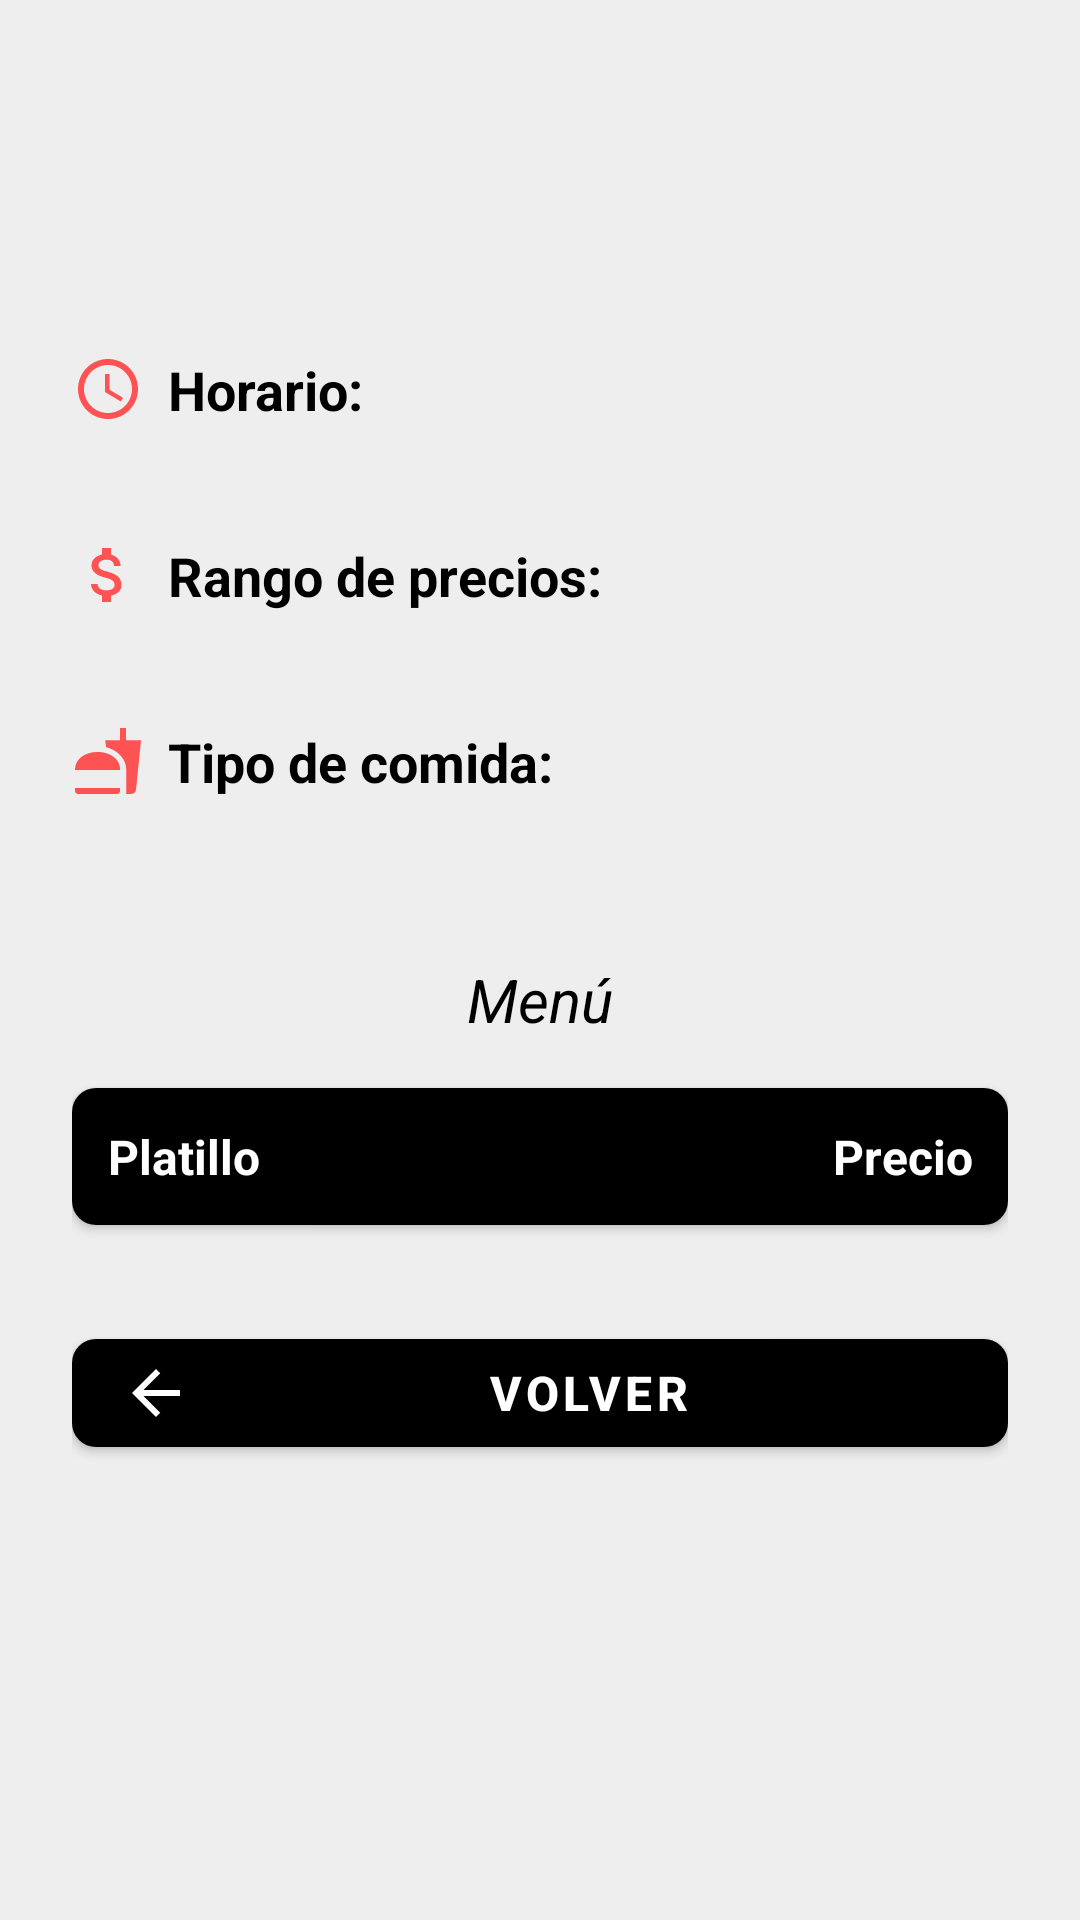

Icons on this 1080x1920 Android screen, each with the point to tap as [x,y]:
food: [108,761]
price: [106,575]
time: [108,389]
